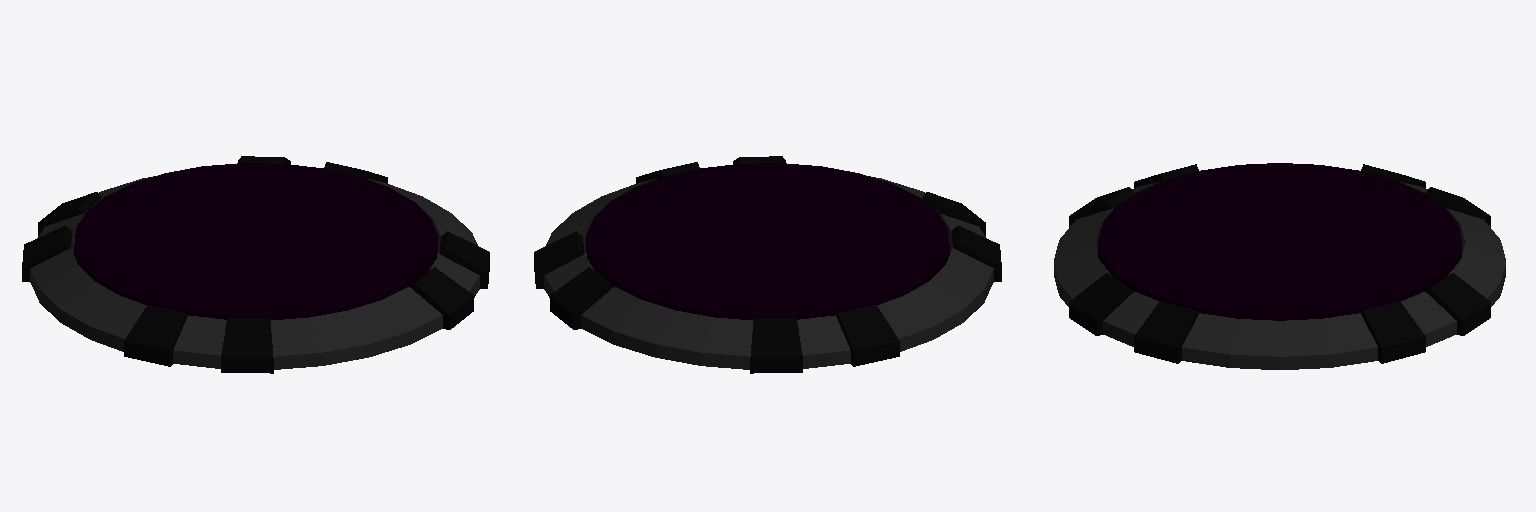
The model's file is teleportPad.obj.
3 views of the same model, side by side, from view 1: azimuth 30°, elevation 25°; view 2: azimuth 150°, elevation 25°; view 3: azimuth 270°, elevation 25° (orthographic).
Visible parts, largest first — view 1: teleportPad; view 2: teleportPad; view 3: teleportPad.
Part boxes in pixels (bbox=[...]): teleportPad: bbox=[22, 156, 489, 373]; teleportPad: bbox=[534, 156, 1001, 373]; teleportPad: bbox=[1054, 163, 1505, 369].
Size of the model in its own units: 4.98 by 0.453 by 4.98.